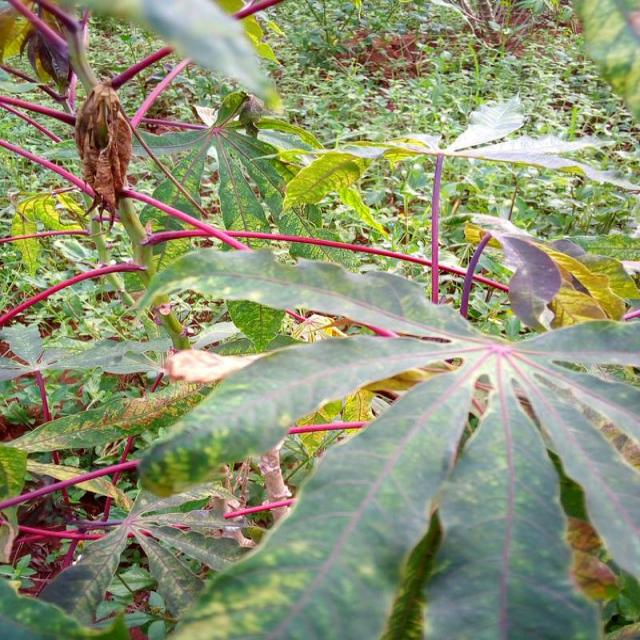cassava leaf: (134, 236, 638, 638)
